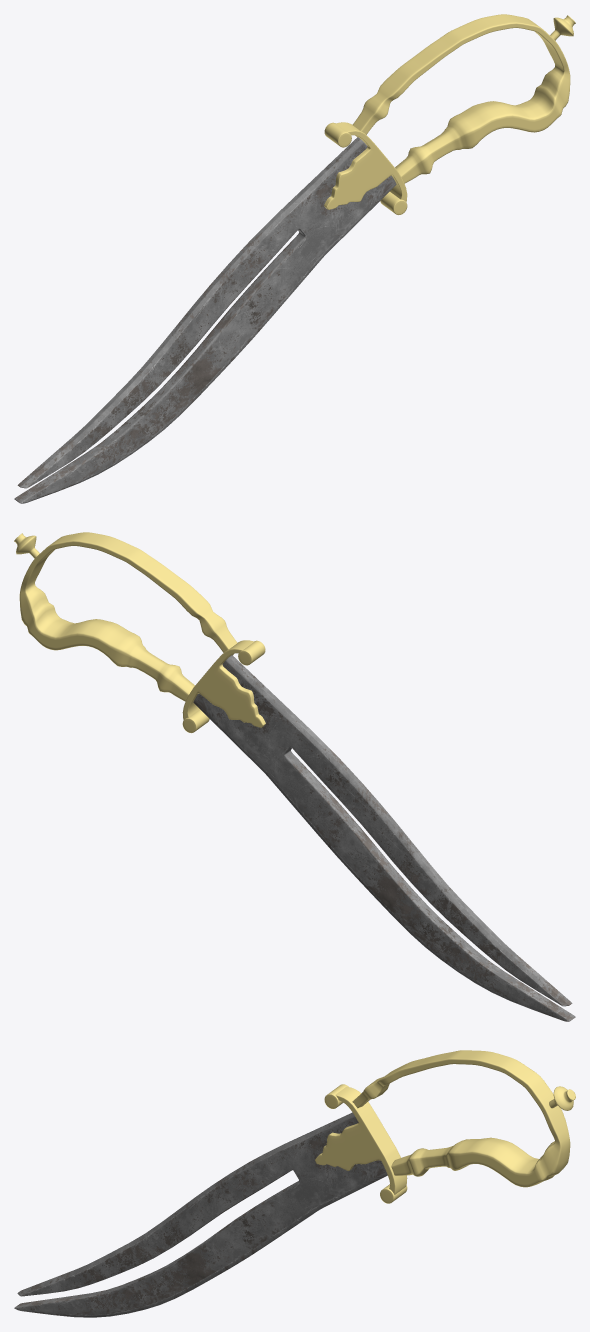
3 renders of one model, top to bottom at view 1: azimuth 30°, elevation 25°; view 2: azimuth 150°, elevation 25°; view 3: azimuth 330°, elevation 25°, orthographic.
Visible parts, largest first — view 1: pCube1, pCube5, pCube2; view 2: pCube1, pCube5, pCube2; view 3: pCube1, pCube5, pCube2, pCylinder4.
Boxes of the visible parts, x1=… form: pCube1: x1=14, y1=137, x2=396, y2=503; pCube5: x1=352, y1=14, x2=570, y2=183; pCube2: x1=324, y1=122, x2=407, y2=209; pCube1: x1=193, y1=655, x2=575, y2=1021; pCube5: x1=19, y1=532, x2=237, y2=701; pCube2: x1=182, y1=640, x2=265, y2=727; pCube1: x1=14, y1=1112, x2=387, y2=1317; pCube5: x1=352, y1=1050, x2=570, y2=1187; pCube2: x1=315, y1=1086, x2=407, y2=1194; pCylinder4: x1=549, y1=1086, x2=575, y2=1110.
Size of the model in its own units: 0.7472 by 0.4687 by 0.0452.
2 materials, 2 textured.
